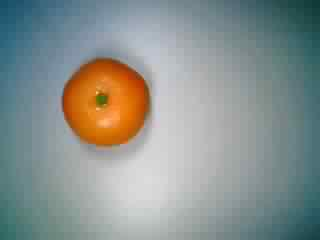orange: (55, 53, 151, 149)
